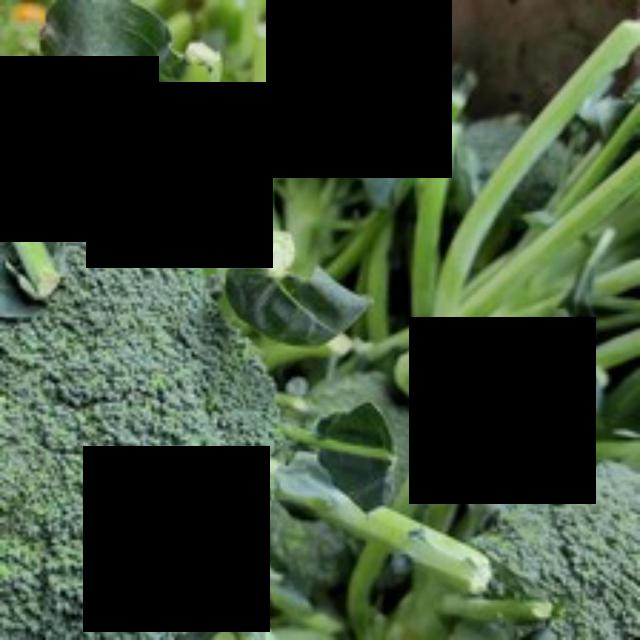broccoli: (0, 180, 357, 637)
